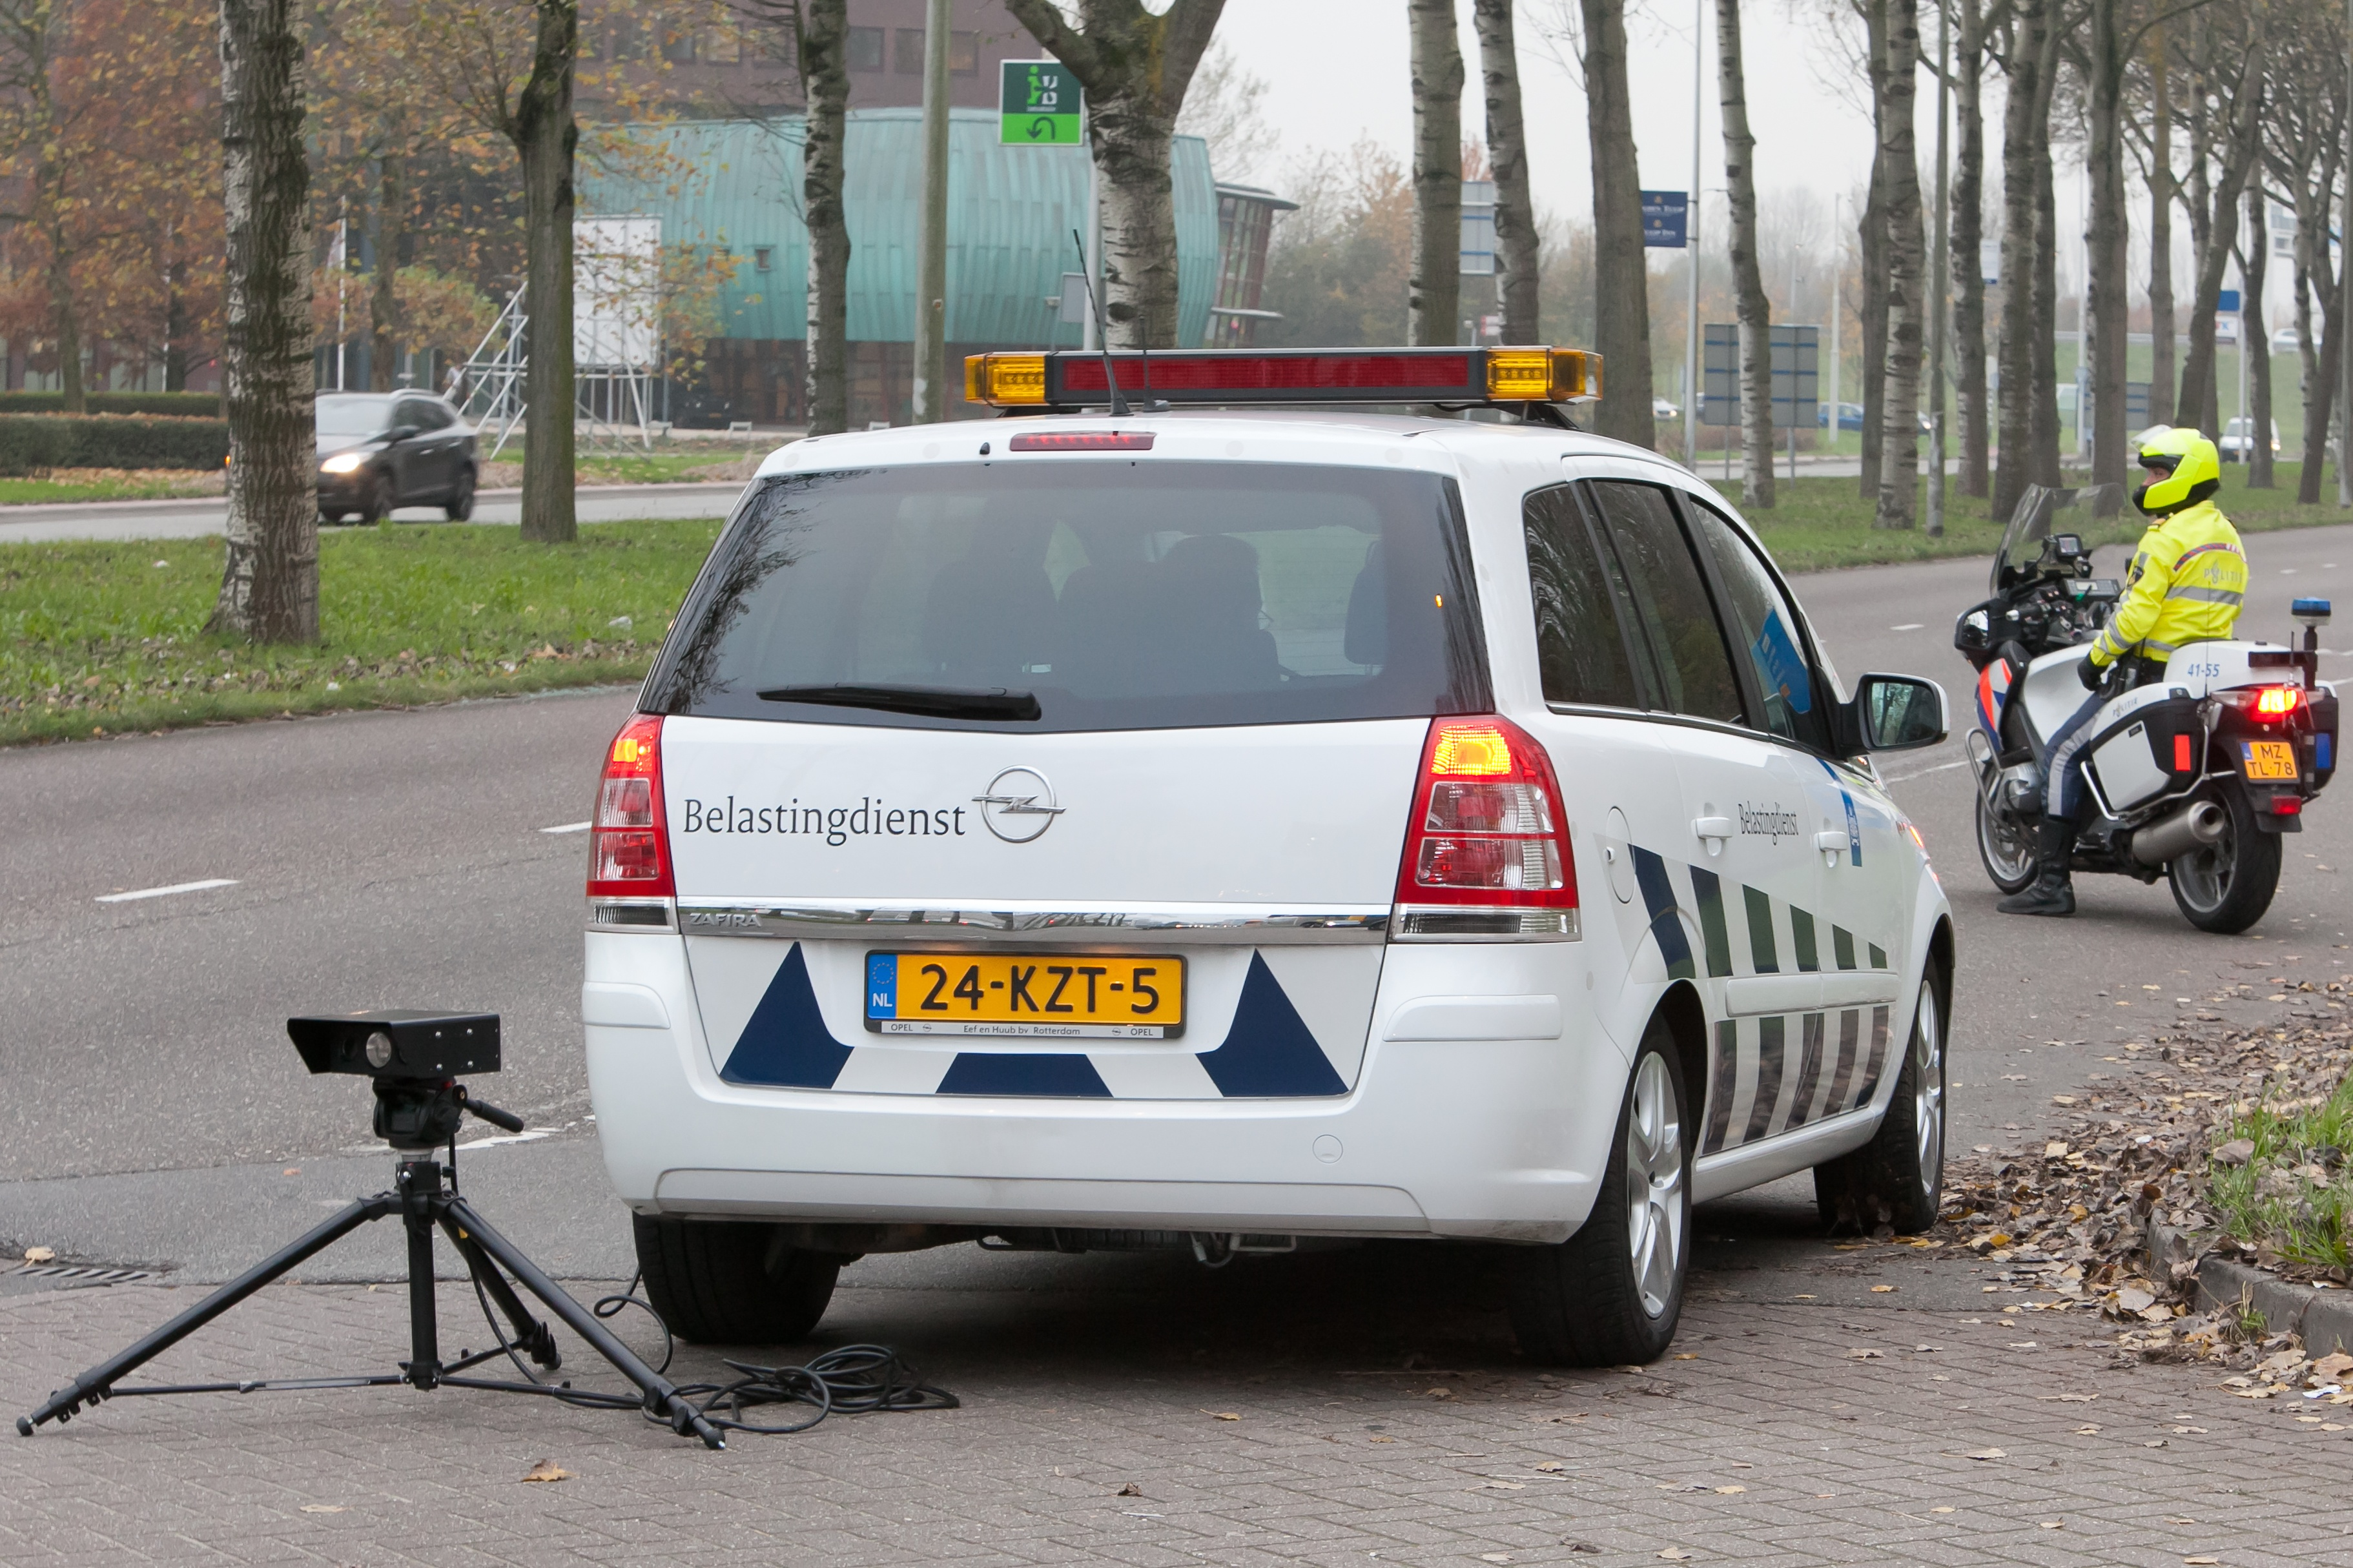num_plate: (856, 945, 1182, 1037)
